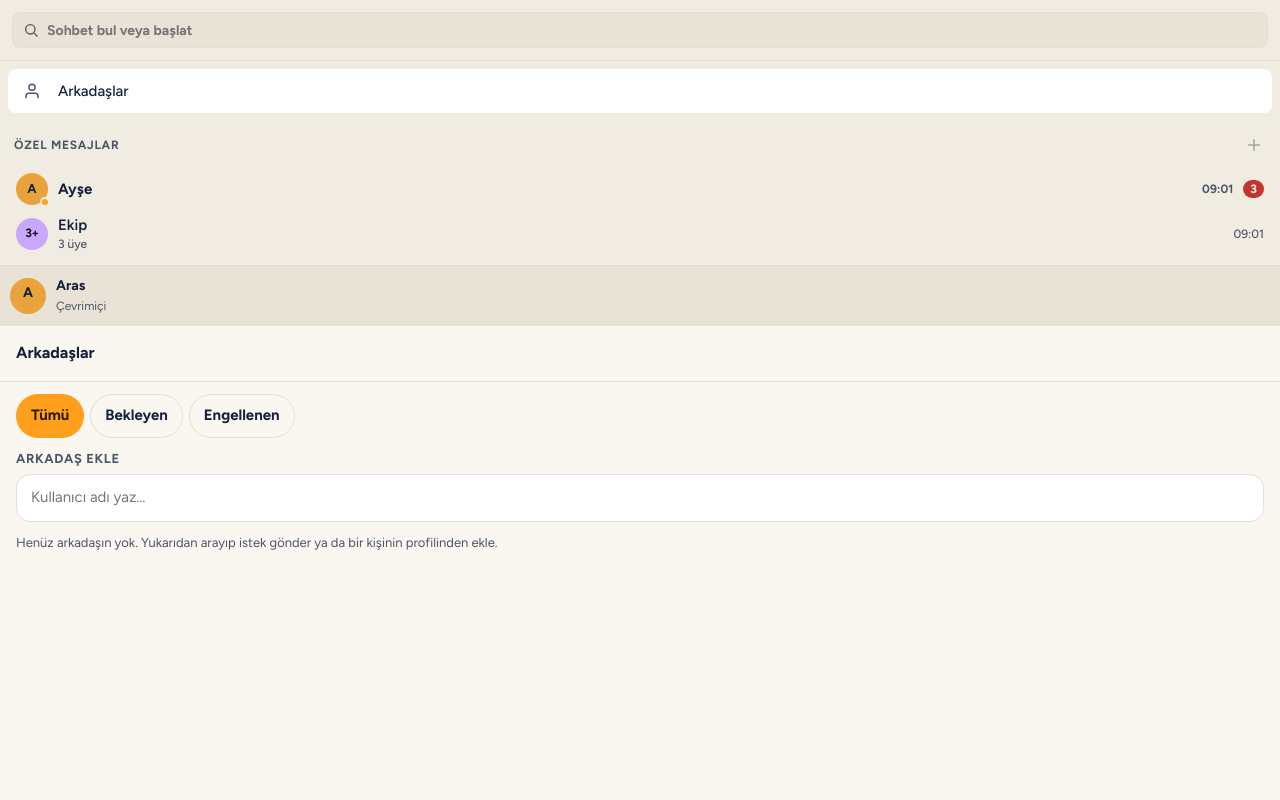
Scenario: DmAlani › arama kutusu DM'leri süzer
The width and height of the screenshot is (1280, 800).
In the field named "Mesajlarda kişi ara": {"x": 652, "y": 30} top-left (47, 13), bottom-right (1257, 47), type "ek"
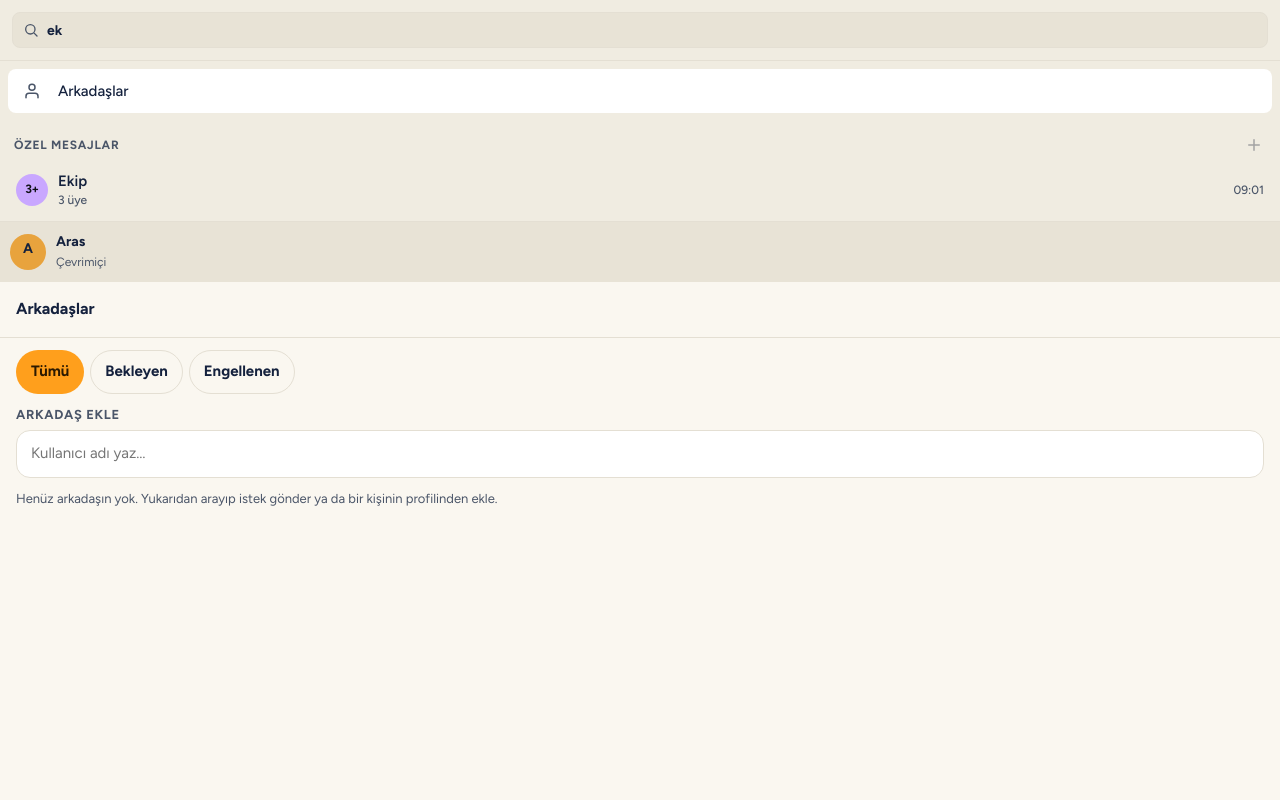
Expected: the button "3+ Ekip 3 üye 09:01" is shown, top-left (8, 167), bottom-right (1272, 213)
Result: the button "Ayşe" is gone
